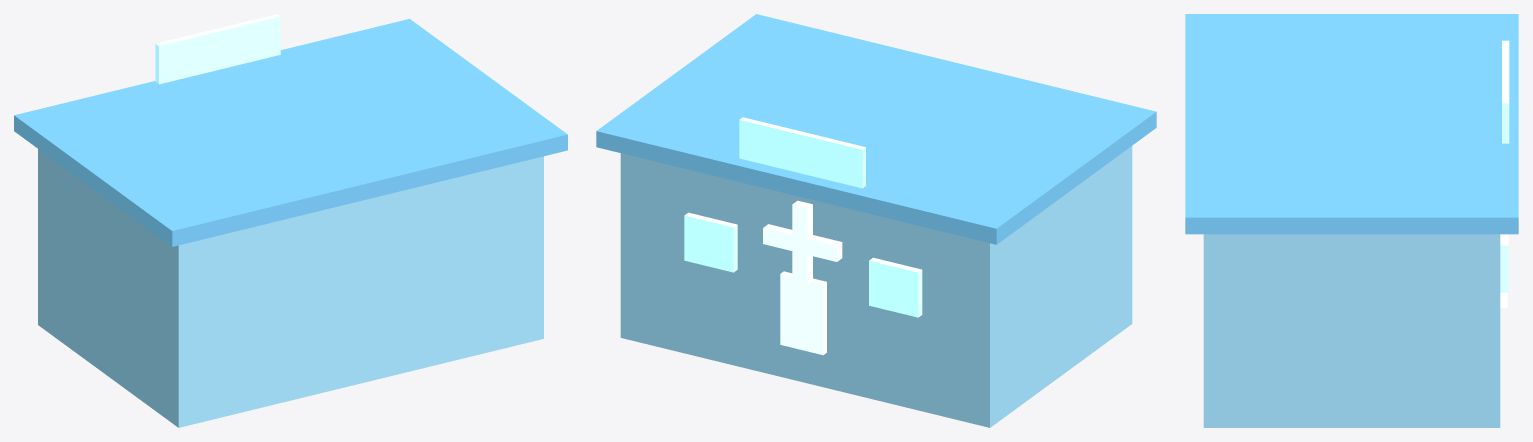
The model's file is hospital-tier2-village.glb.
3 renders of one model, left to right at view 1: azimuth 30°, elevation 25°; view 2: azimuth 150°, elevation 25°; view 3: azimuth 270°, elevation 25°, orthographic. The views are drawn at different scales.
Parts seen in each view (by area): view 1: HOSPITAL_TIER2; view 2: HOSPITAL_TIER2; view 3: HOSPITAL_TIER2.
Part boxes in pixels (x1,y1,x2,y2): HOSPITAL_TIER2: [14, 14, 567, 427]; HOSPITAL_TIER2: [596, 14, 1156, 427]; HOSPITAL_TIER2: [1185, 14, 1518, 427].
Bounding box in the file's own units: 13 × 7.8 × 9.
